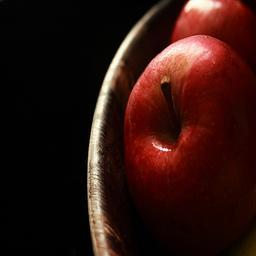apple: (124, 35, 256, 246), (169, 1, 256, 69)
